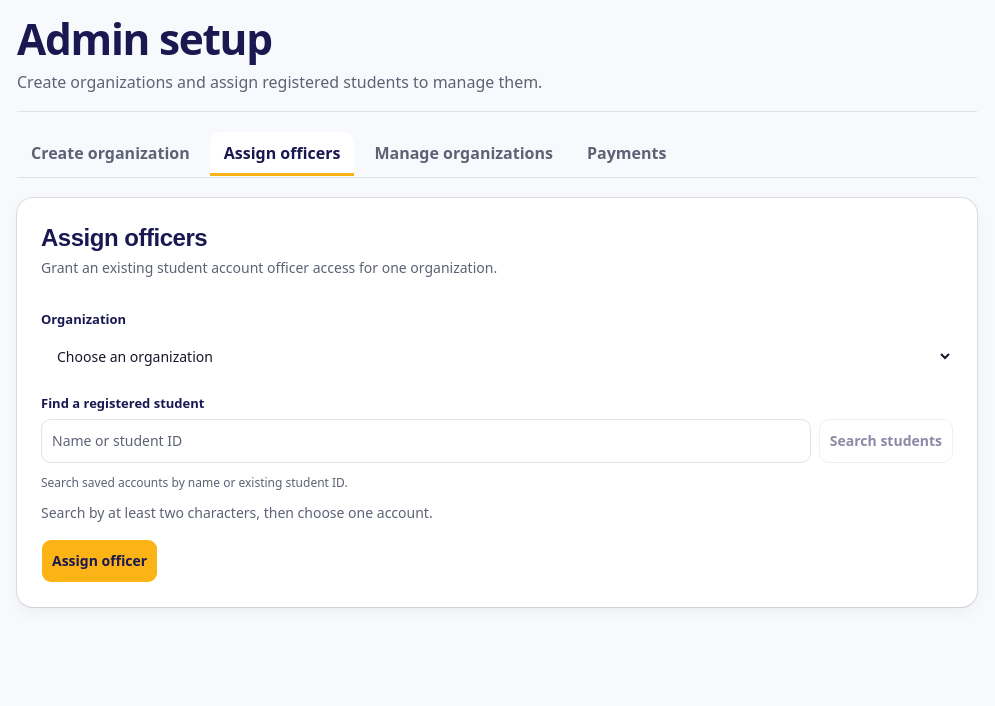
it: Admin provisioning page › ignores superseded student-search responses after the query changes
Step 1. Type "al" into the search field labelled "Find a registered student" → (426, 441), box [41,419,811,463]
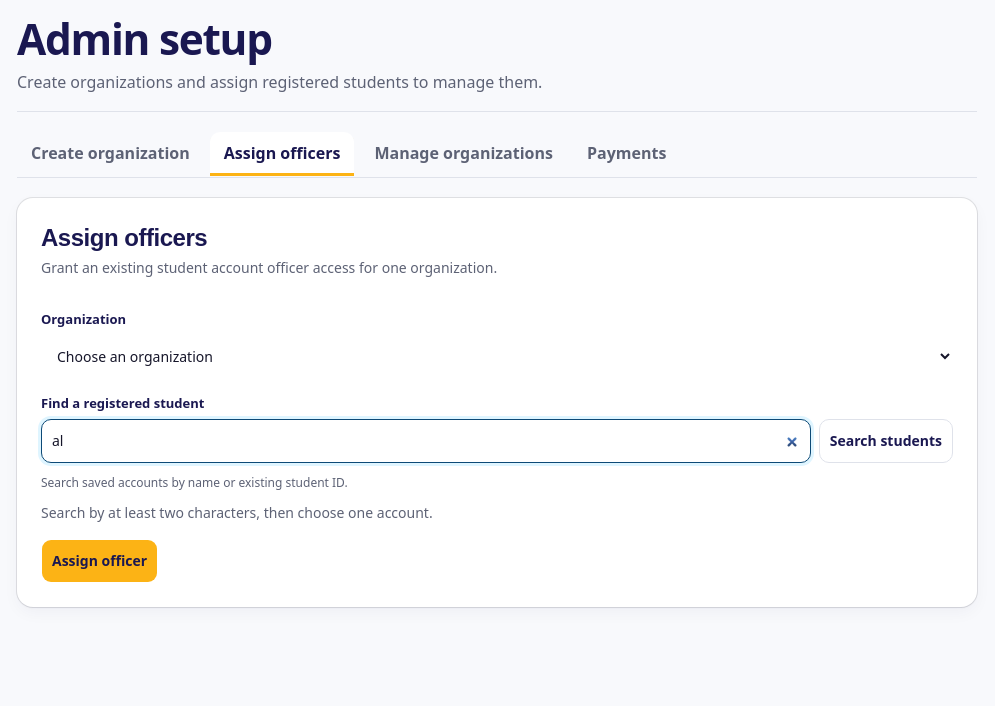
Check: the button "Search students" is enabled
Step 2. Click the button "Search students" → (886, 441), box [819,419,953,463]
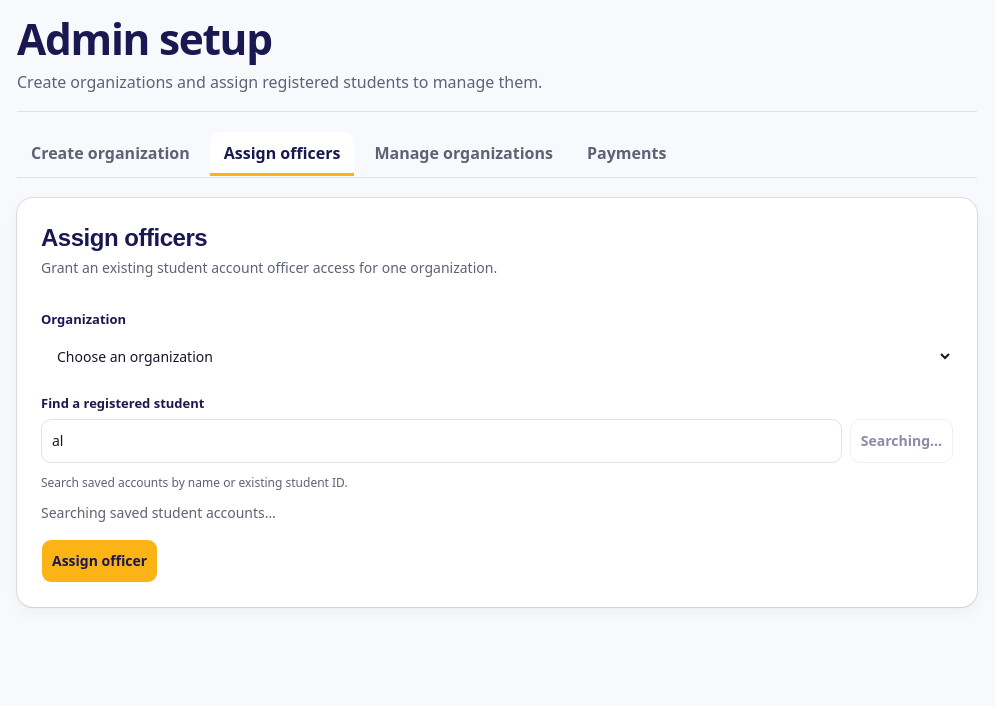
Step 3. Replace the text in the search field labelled "Find a registered student" with "bo" → (441, 441), box [41,419,842,463]
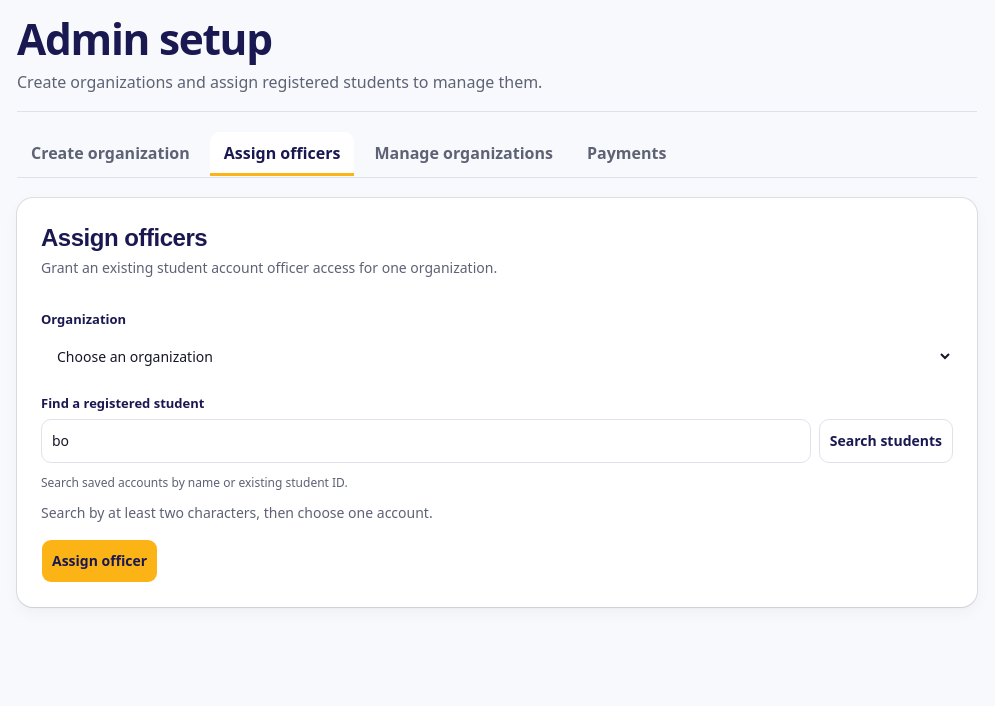
Check: the button "Search students" is enabled
Step 4. Click the button "Search students" → (886, 441), box [819,419,953,463]
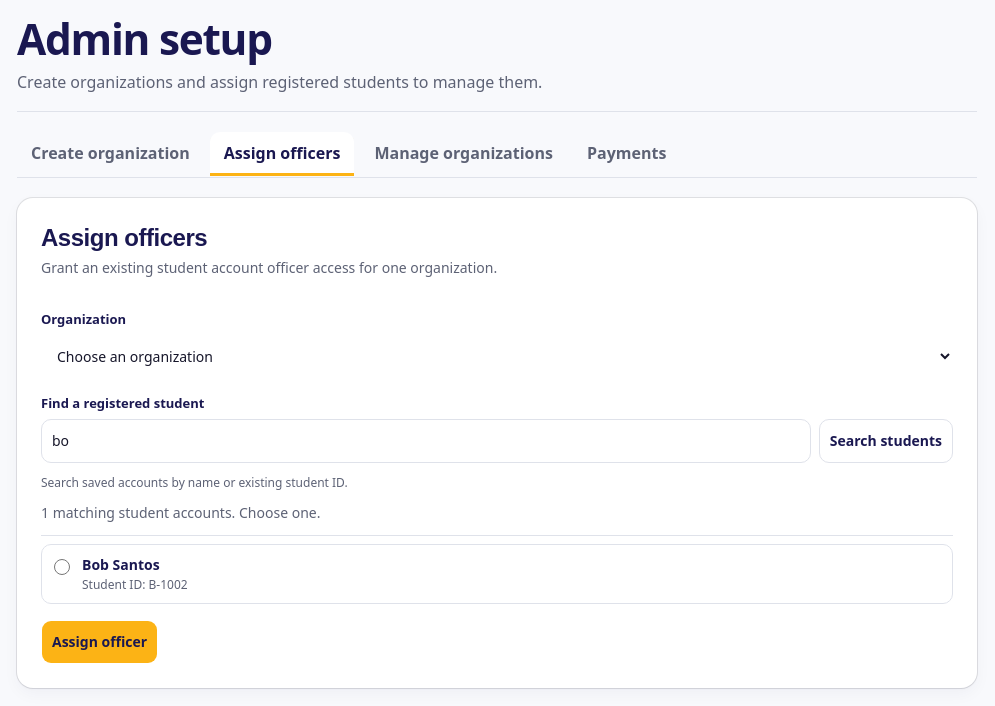
Check: the radio button labelled "Bob Santos Student ID: B-1002" is shown, box [54,559,70,575]
